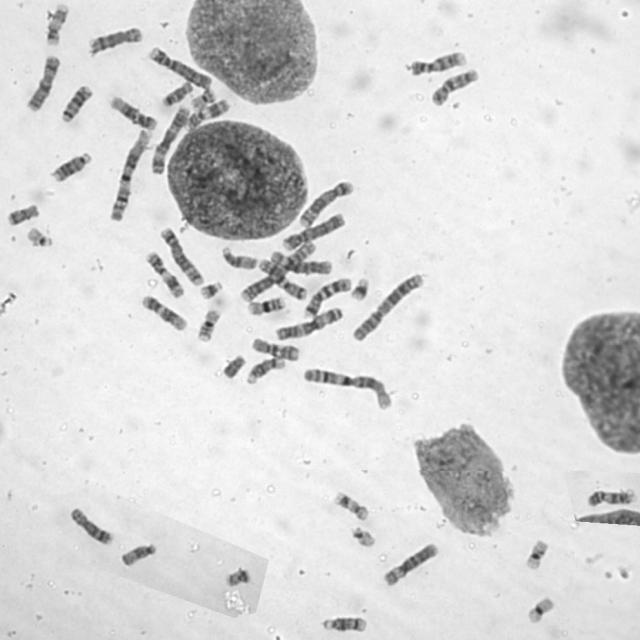A1: (106, 126, 154, 222), (300, 364, 394, 412)
A2: (348, 270, 427, 344), (235, 238, 318, 303)
A3: (148, 103, 191, 176), (273, 304, 346, 342)
B4: (146, 44, 212, 90), (278, 209, 348, 252)
B5: (296, 177, 356, 228), (158, 224, 205, 286)
C10: (428, 66, 482, 108), (247, 334, 302, 362)
C11: (142, 248, 185, 300), (183, 95, 231, 132)
C12: (106, 92, 159, 132), (139, 292, 188, 332)
C6: (379, 539, 441, 589), (267, 247, 333, 276)
C7: (257, 255, 308, 301), (300, 275, 352, 320)
C8: (67, 504, 115, 546), (85, 24, 145, 56)
C9: (406, 47, 468, 77), (584, 486, 636, 508)
D13: (48, 148, 94, 184), (58, 81, 94, 123)
D14: (244, 355, 286, 385), (319, 613, 369, 633)
D15: (117, 540, 159, 568), (219, 244, 258, 272)
E16: (194, 304, 223, 342), (244, 293, 288, 317)
E17: (331, 487, 372, 522), (43, 1, 70, 47)
E18: (159, 78, 194, 107), (4, 200, 41, 227)
F19: (524, 593, 557, 625), (522, 536, 550, 572)
F20: (188, 86, 218, 112), (226, 568, 251, 588)
G21: (348, 274, 370, 302), (197, 278, 223, 300)
G22: (348, 523, 378, 549), (25, 225, 56, 248)
X: (23, 52, 62, 113)
Y: (220, 351, 248, 380)
